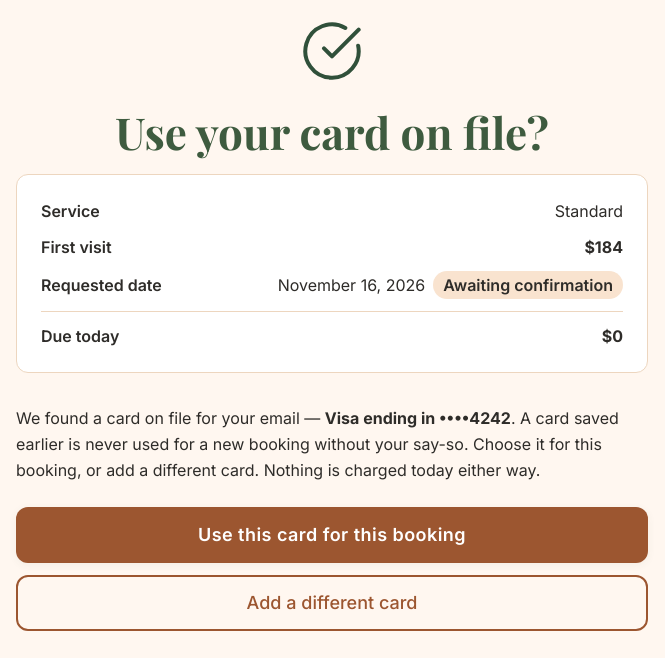
Test: visit cancelled during card setup › shows the cancellation when Use this card for this booking is clicked at /thank-you
Click the button "Use this card for this booking" at (332, 535), box [16, 507, 648, 563]
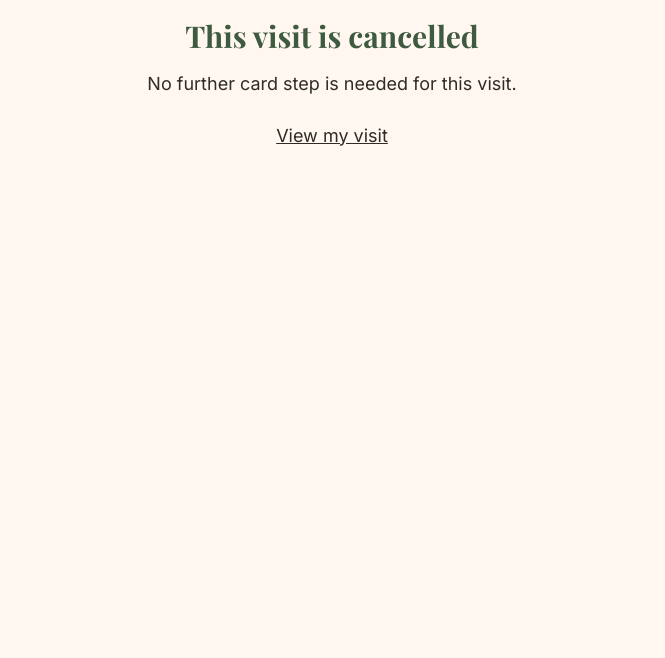
Expected: the heading "This visit is cancelled" is shown, [185, 16, 479, 56]
Expected: the button "Use this card for this booking" is gone
